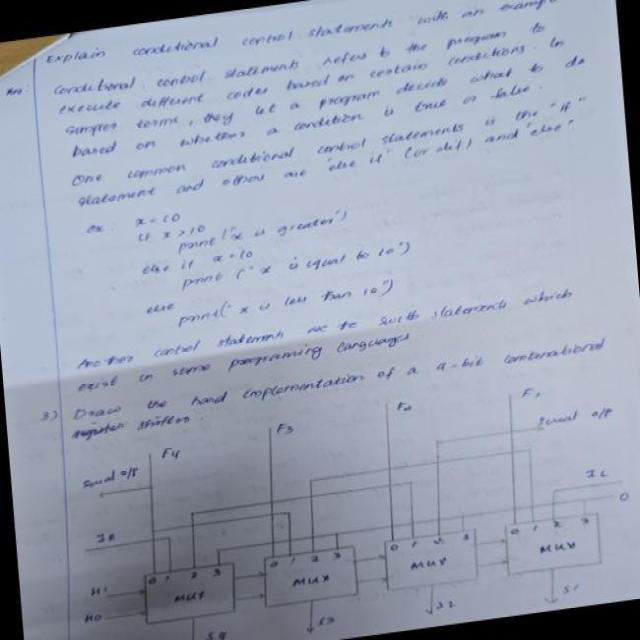Figure Detection - v3 Dataset Version2: (61, 361, 640, 640)
